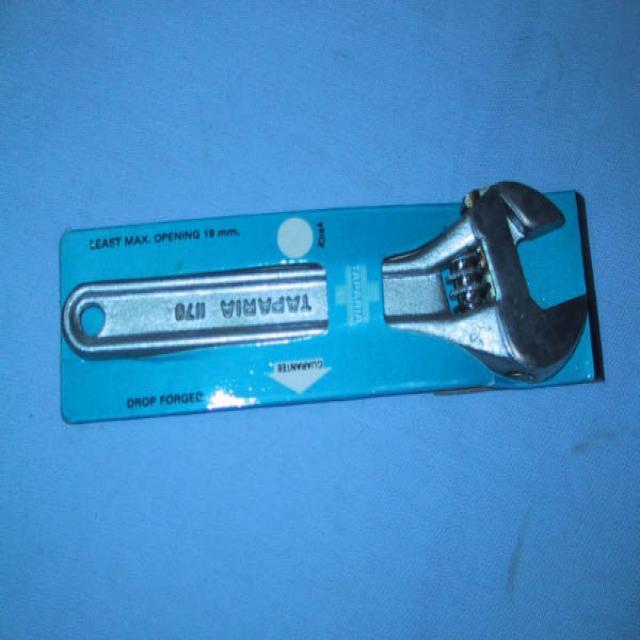wrench: (55, 173, 591, 384)
